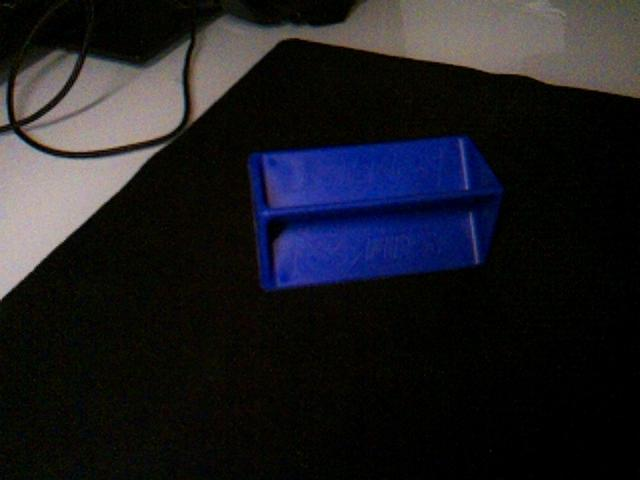blue: (246, 133, 506, 293)
